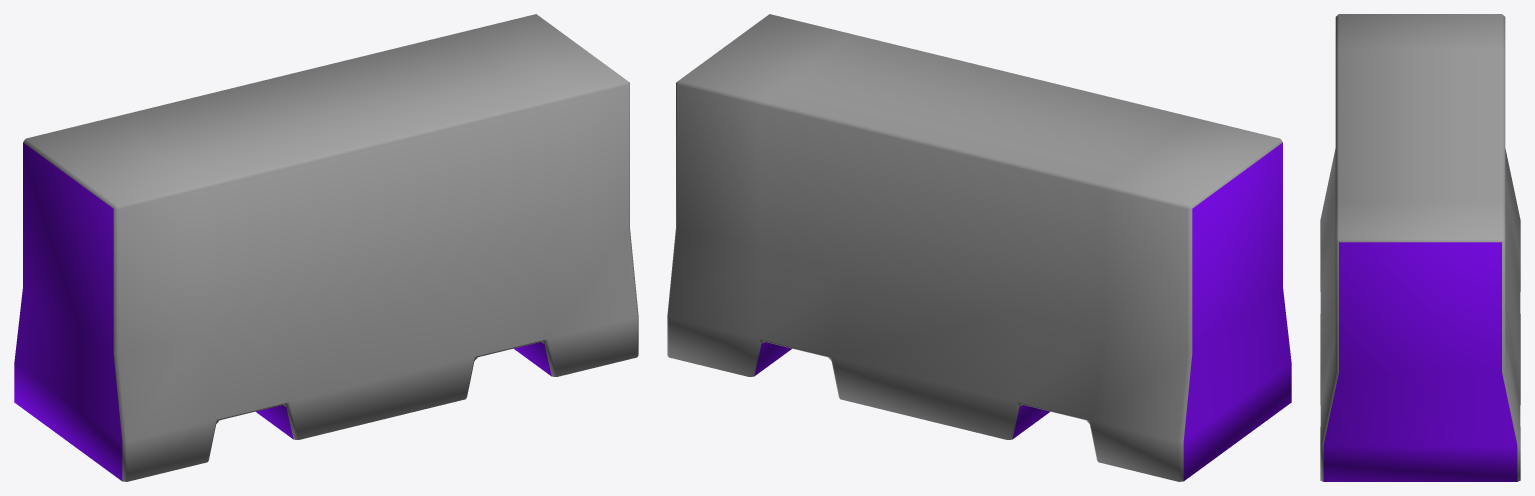
File: Barricade_Concrete_10.fbx
3 renders of one model, left to right at view 1: azimuth 30°, elevation 25°; view 2: azimuth 150°, elevation 25°; view 3: azimuth 270°, elevation 25°, orthographic. The views are drawn at different scales.
Parts seen in each view (by area): view 1: Obstacle_Barricade_Concrete_10; view 2: Obstacle_Barricade_Concrete_10; view 3: Obstacle_Barricade_Concrete_10.
Boxes of the visible parts, <box> form: Obstacle_Barricade_Concrete_10: <box>14,14,638,481</box>; Obstacle_Barricade_Concrete_10: <box>667,14,1291,481</box>; Obstacle_Barricade_Concrete_10: <box>1320,14,1520,481</box>.
Bounding box in the file's own units: 128 × 63.96 × 47.84.
1 material, 1 textured.
